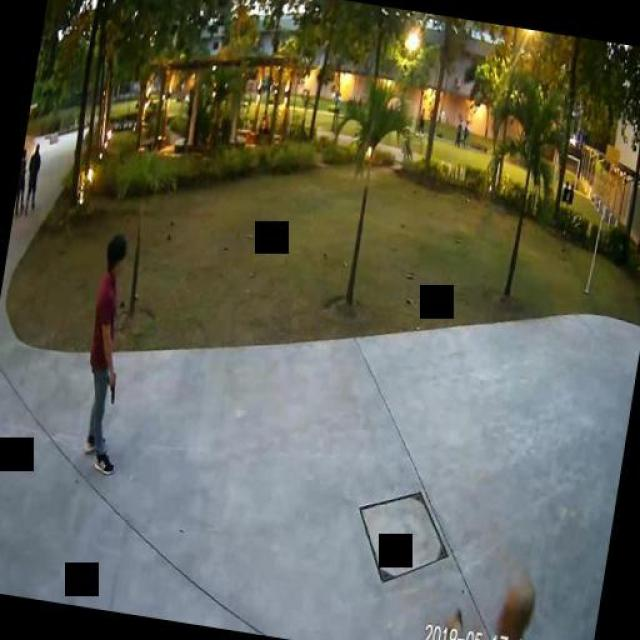gun: (102, 367, 116, 402)
